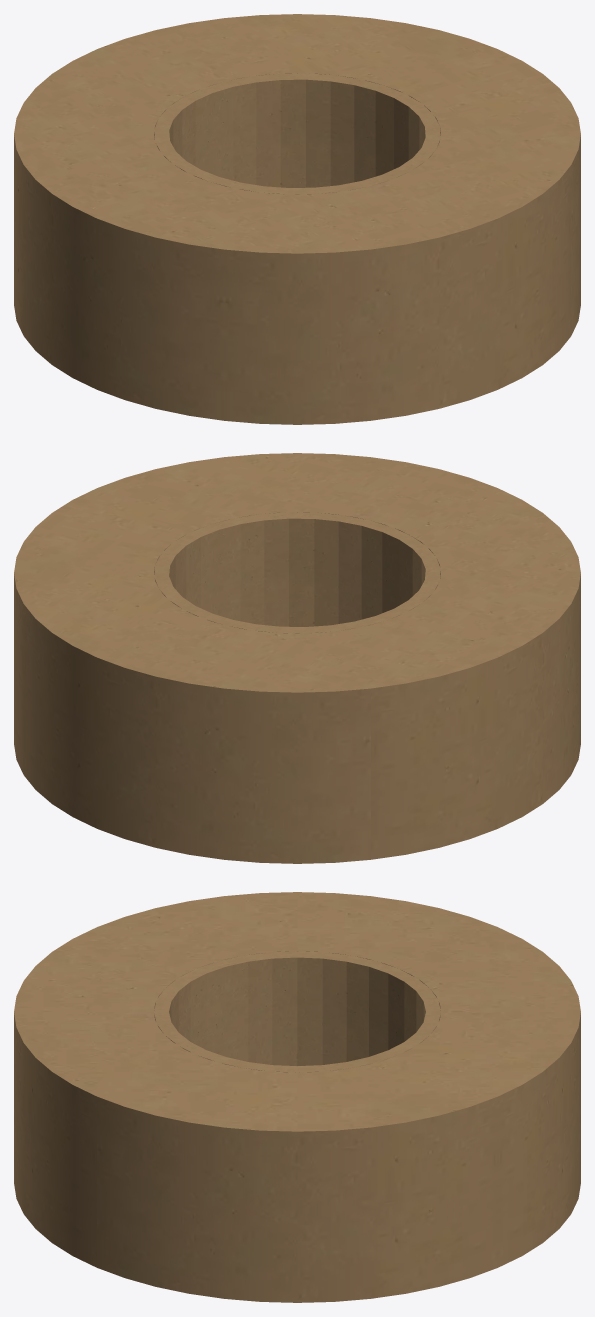
The model's file is ALV-DRY-007.glb.
The picture shows the model from 3 angles, top to bottom: view 1: azimuth 30°, elevation 25°; view 2: azimuth 150°, elevation 25°; view 3: azimuth 270°, elevation 25°; orthographic projection.
Visible parts, largest first — view 1: ALV-DRY-007_rolo, ALV-DRY-007_tubete; view 2: ALV-DRY-007_rolo, ALV-DRY-007_tubete; view 3: ALV-DRY-007_rolo, ALV-DRY-007_tubete.
Boxes of the visible parts, box(x1,y1,x2,y2) form: ALV-DRY-007_rolo: box(14, 14, 580, 424); ALV-DRY-007_tubete: box(154, 73, 440, 194); ALV-DRY-007_rolo: box(14, 453, 580, 863); ALV-DRY-007_tubete: box(154, 512, 440, 633); ALV-DRY-007_rolo: box(14, 892, 580, 1302); ALV-DRY-007_tubete: box(154, 951, 440, 1072).
Size of the model in its own units: 0.15 by 0.05 by 0.15.
1 material, 1 textured.
